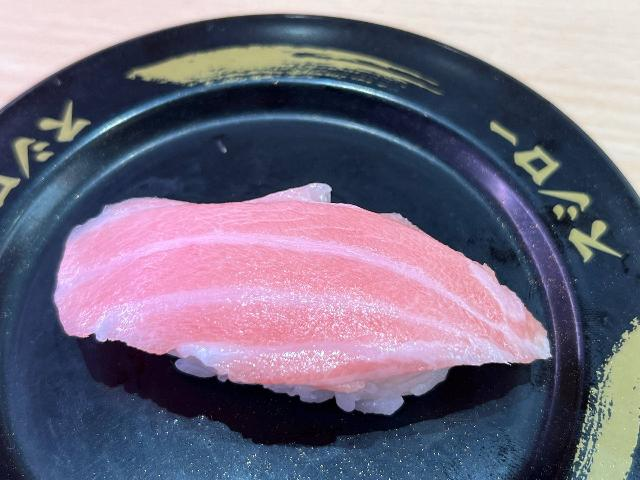janback: (15, 67, 637, 480)
